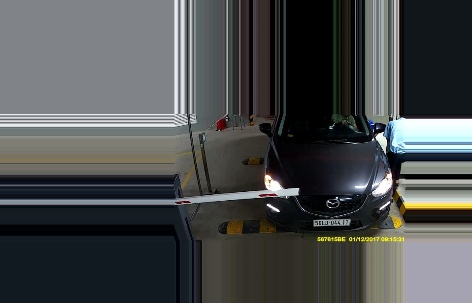plate: (311, 216, 352, 227)
